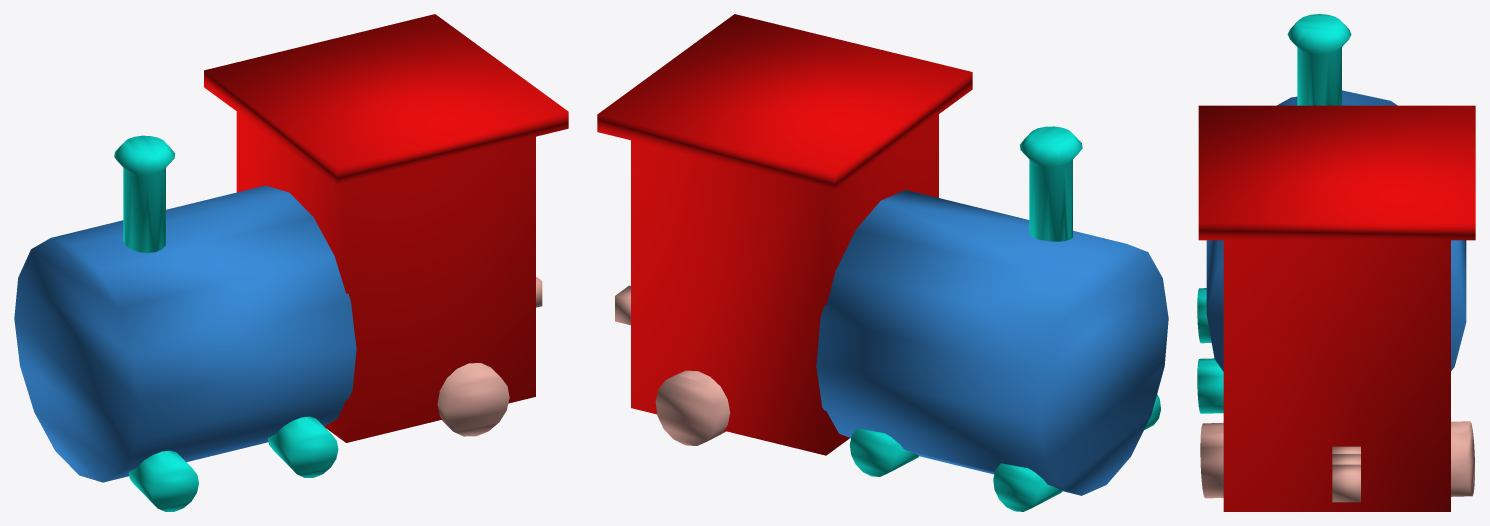
The model's file is maquina2.gltf.
3 renders of one model, left to right at view 1: azimuth 30°, elevation 25°; view 2: azimuth 150°, elevation 25°; view 3: azimuth 270°, elevation 25°, orthographic. The views are drawn at different scales.
Visible parts, largest first — view 1: Cube14_copy16; view 2: Cube14_copy16; view 3: Cube14_copy16.
Part boxes in pixels (box(x1,y1,x2,y2)): Cube14_copy16: box(14, 14, 568, 511); Cube14_copy16: box(597, 14, 1168, 511); Cube14_copy16: box(1197, 14, 1475, 511).
Bounding box in the file's own units: 0.349 × 0.2305 × 0.175.
